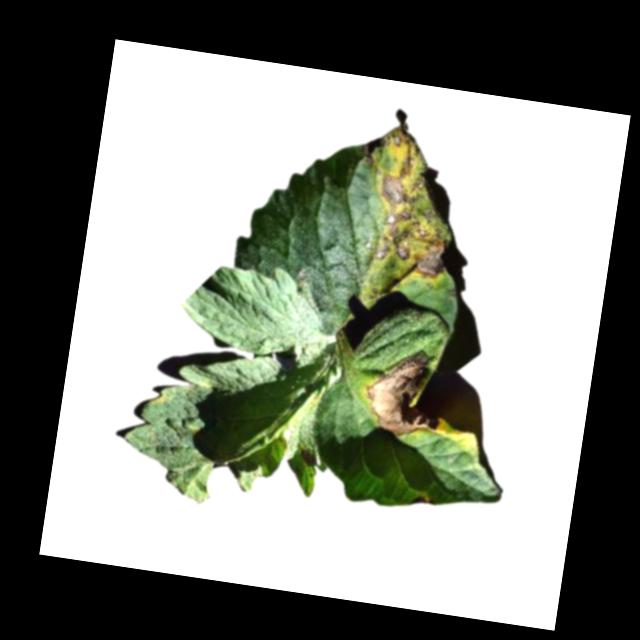Early_blight: (345, 118, 466, 283), (359, 341, 455, 441), (299, 445, 318, 467), (410, 492, 434, 509)
